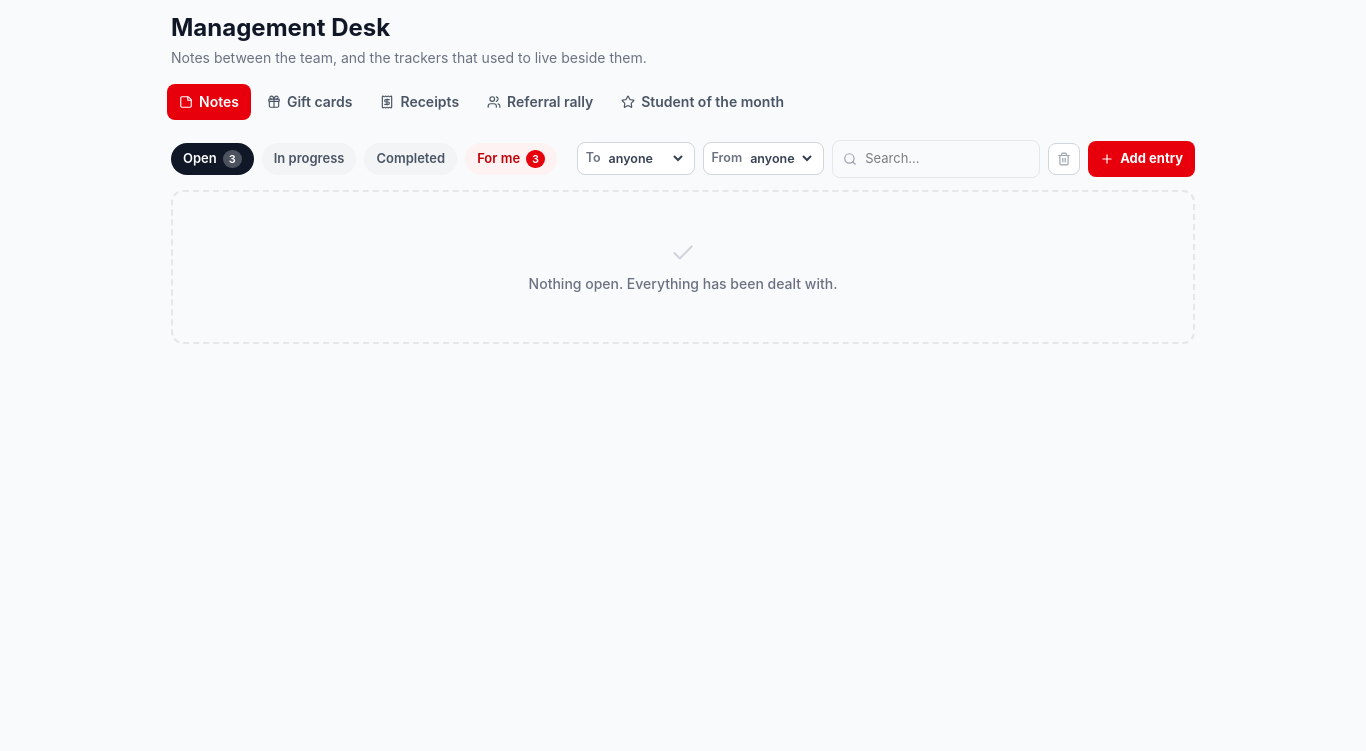
Test case: Completed, most recently settled first › is ordered by when it was settled, not when it was logged
Click the button "Completed": (411, 159) [364, 143, 457, 174]
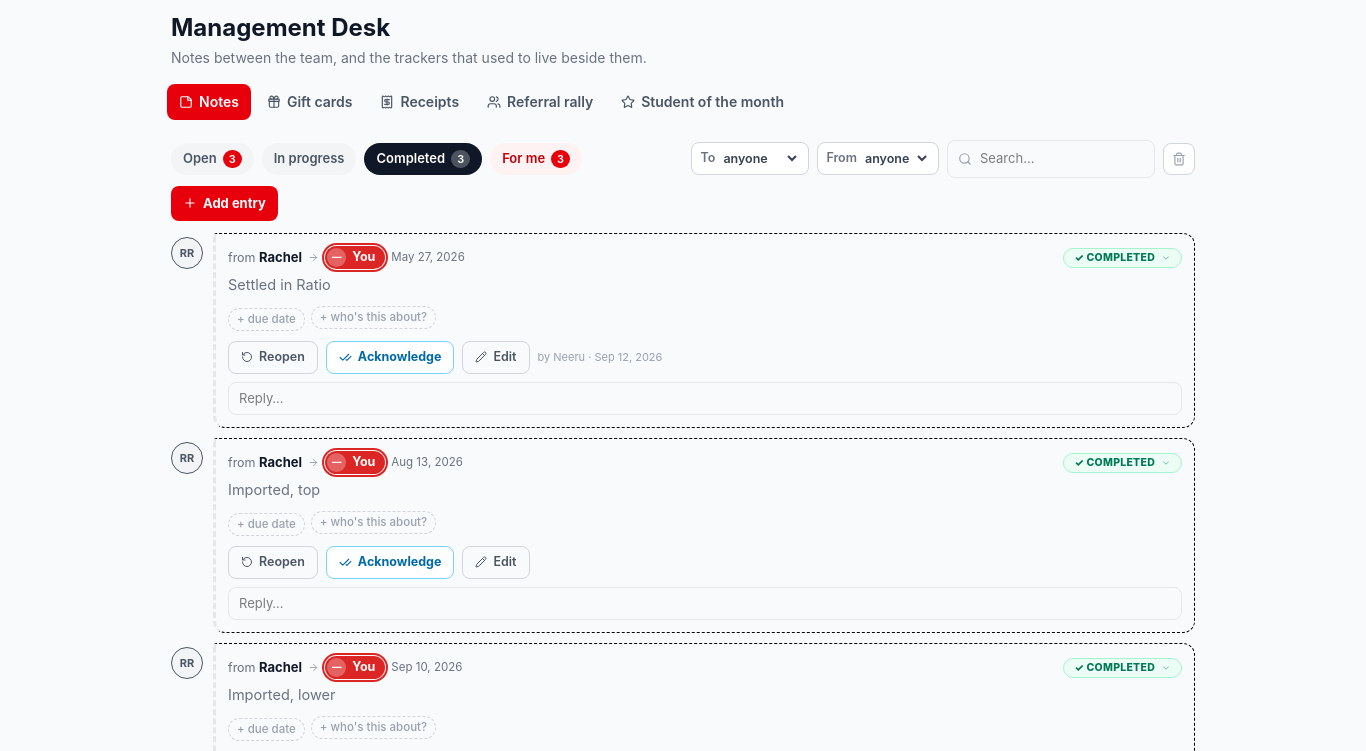
Expected: the text "Settled in Ratio" is shown, [228, 276, 331, 293]
Expected: the text "by Neeru · Sep 12, 2026" is shown, [538, 349, 662, 365]
